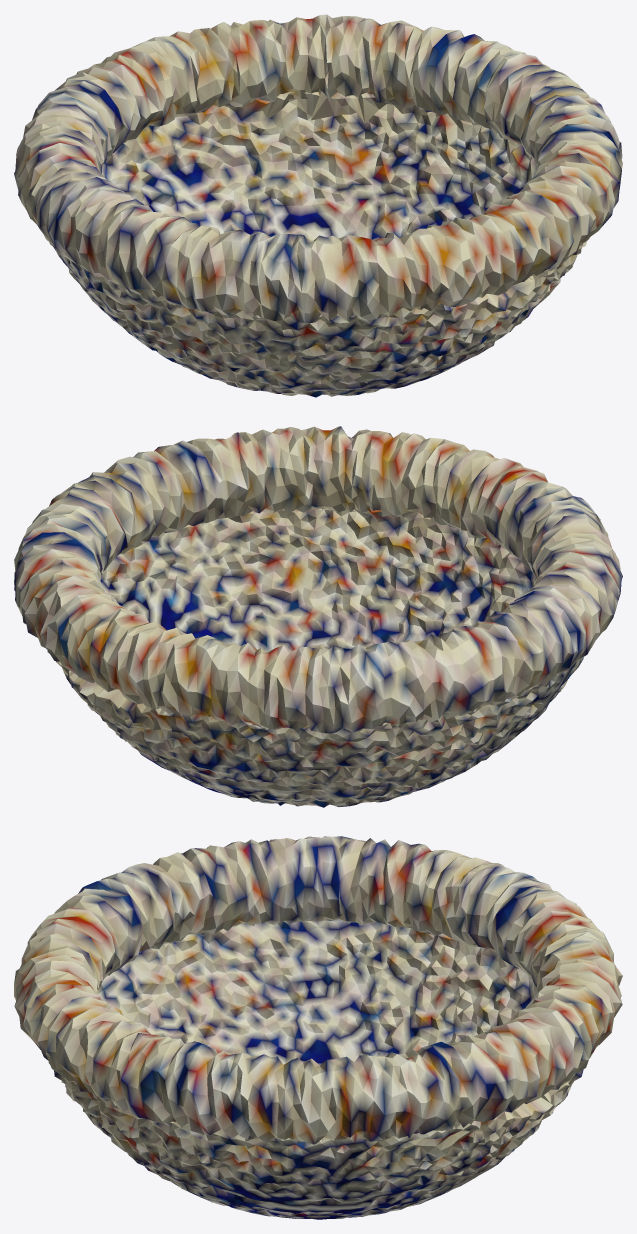
Rendered from bowl_final300.obj.
3 views of the same model, one above another, from view 1: azimuth 30°, elevation 25°; view 2: azimuth 150°, elevation 25°; view 3: azimuth 270°, elevation 25° (orthographic).
Bounding box in the file's own units: 2.13 × 0.8222 × 2.12.
